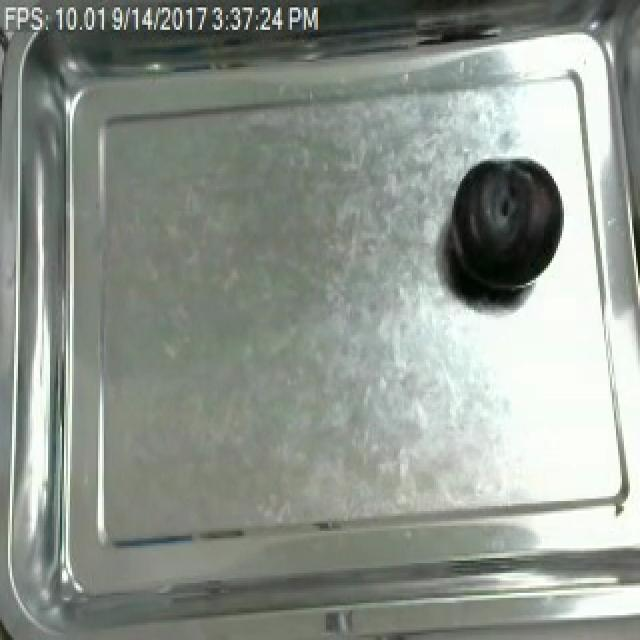Fruit: (442, 151, 572, 308)
